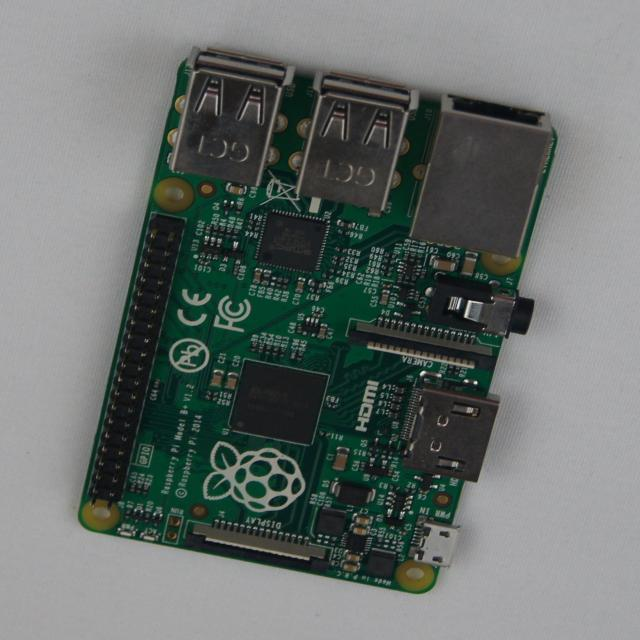Raspberry Pi 1 B-: (79, 50, 558, 594)
